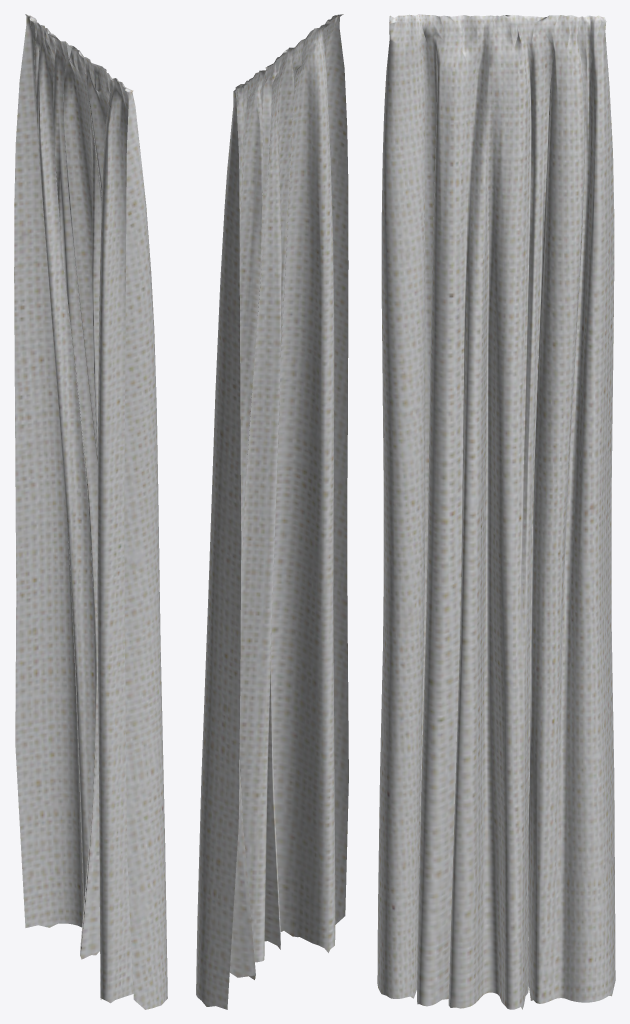
Rendered from SM_Curtain_01a.fbx.
3 views of the same model, side by side, from view 1: azimuth 30°, elevation 25°; view 2: azimuth 150°, elevation 25°; view 3: azimuth 270°, elevation 25° (orthographic). The views are drawn at different scales.
Visible parts, largest first — view 1: SM_Curtain_01a_LOD0; view 2: SM_Curtain_01a_LOD0; view 3: SM_Curtain_01a_LOD0.
Part boxes in pixels (box(x1,y1,x2,y2)): SM_Curtain_01a_LOD0: box(14, 14, 167, 1009); SM_Curtain_01a_LOD0: box(196, 14, 348, 1009); SM_Curtain_01a_LOD0: box(377, 14, 615, 1009).
Size of the model in its own units: 26.9 by 73.1 by 328.
